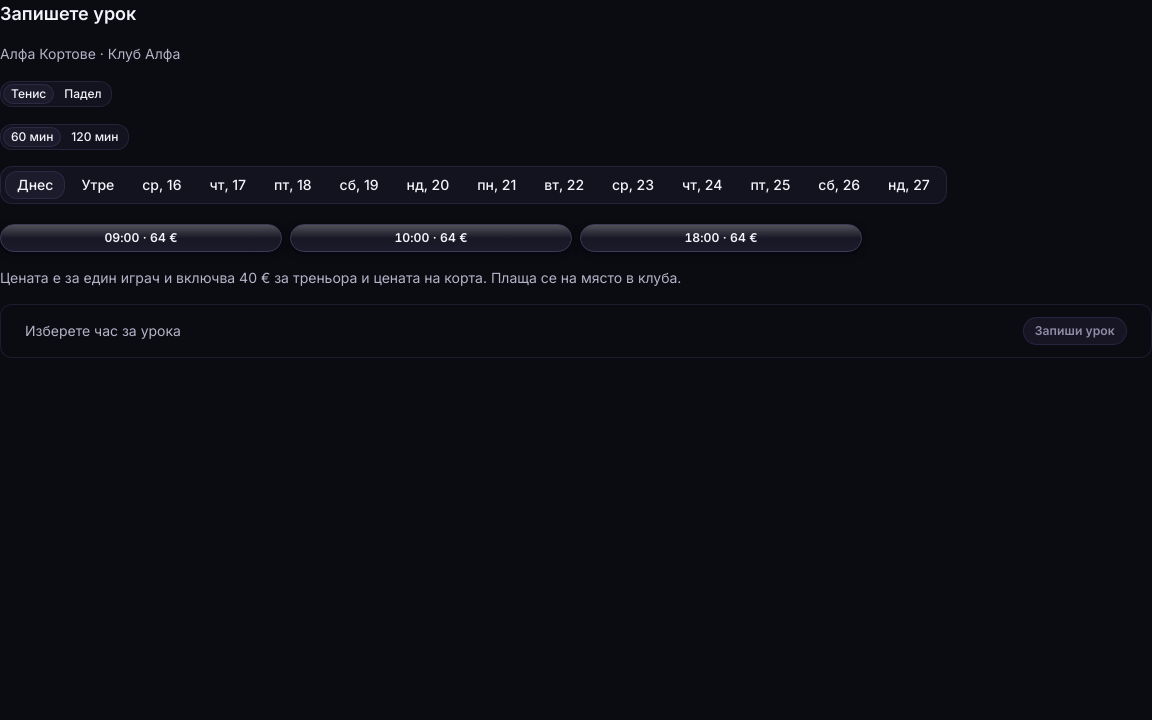
it: the confirmation sheet › says who, where, when, on which court, and the price in its two parts and in all
Click the button "10:00 · 64 €" at {"x": 431, "y": 238}, box x1=290 y1=224 x2=572 y2=252
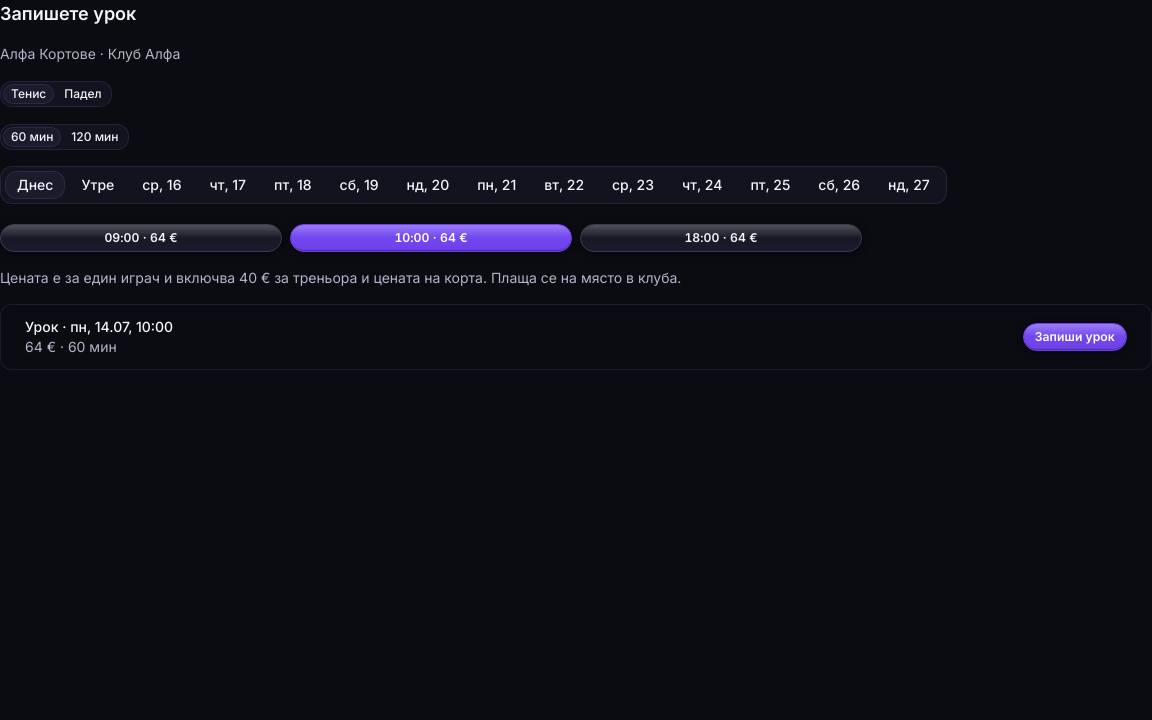
Click the button with test id "lesson-book" at {"x": 1075, "y": 337}, box x1=1023 y1=323 x2=1127 y2=351
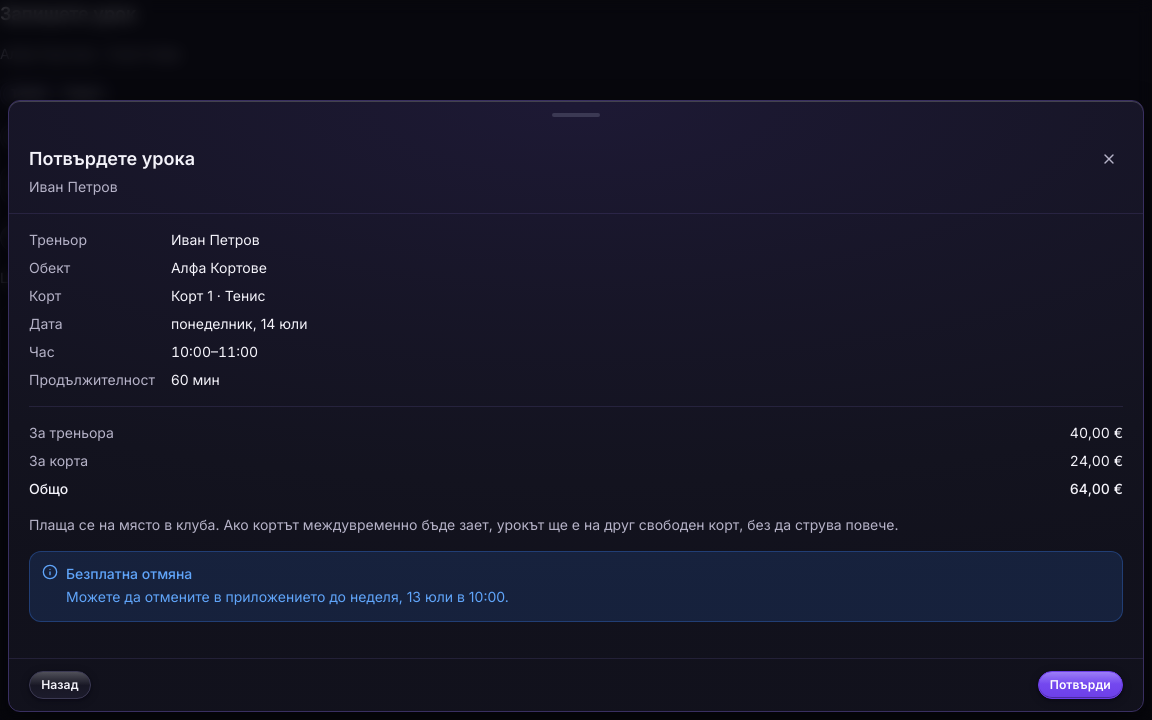
Check: the dialog shows "Иван Петров", box x1=29 y1=178 x2=118 y2=195
Check: the dialog shows "Алфа Кортове", box x1=171 y1=259 x2=267 y2=276
Check: the dialog shows "Корт 1 · Тенис", box x1=171 y1=287 x2=266 y2=304
